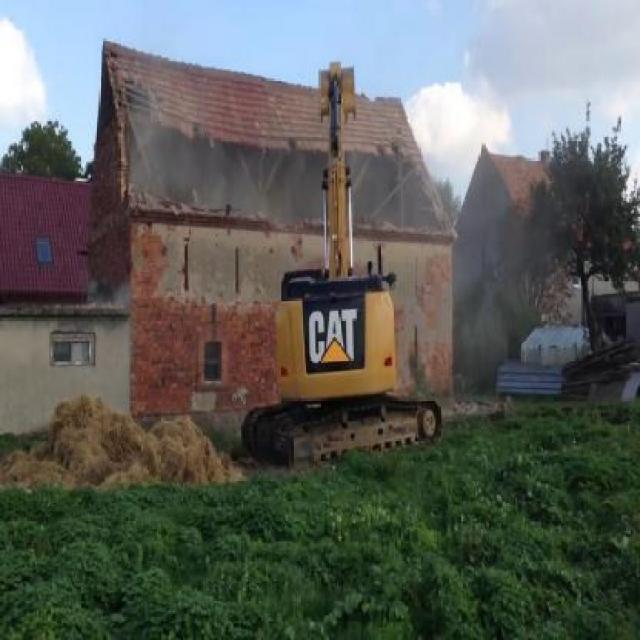Excavator: (236, 52, 444, 476)
